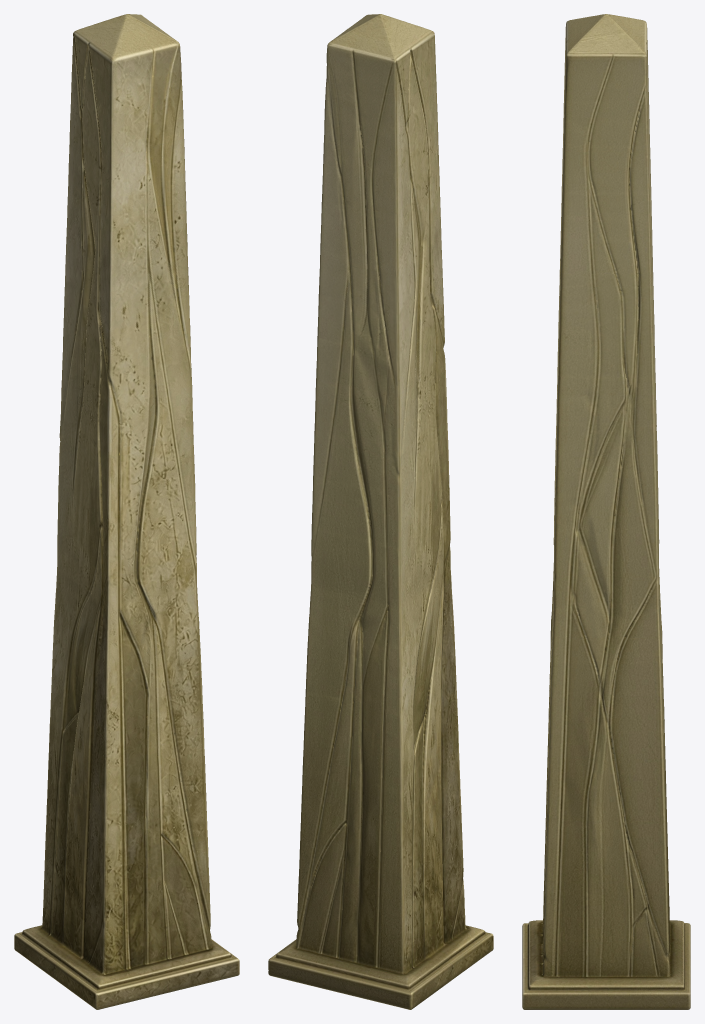
The model's file is obelisk.glb.
The picture shows the model from 3 angles, left to right: view 1: azimuth 30°, elevation 25°; view 2: azimuth 150°, elevation 25°; view 3: azimuth 270°, elevation 25°; orthographic projection.
Visible parts, largest first — view 1: mesh_node; view 2: mesh_node; view 3: mesh_node.
Part boxes in pixels (box(x1,y1,x2,y2)): mesh_node: box(14, 14, 239, 1009); mesh_node: box(268, 14, 493, 1009); mesh_node: box(522, 14, 690, 1009).
Size of the model in its own units: 0.3022 by 1.9 by 0.3022.
1 material, 1 textured.
